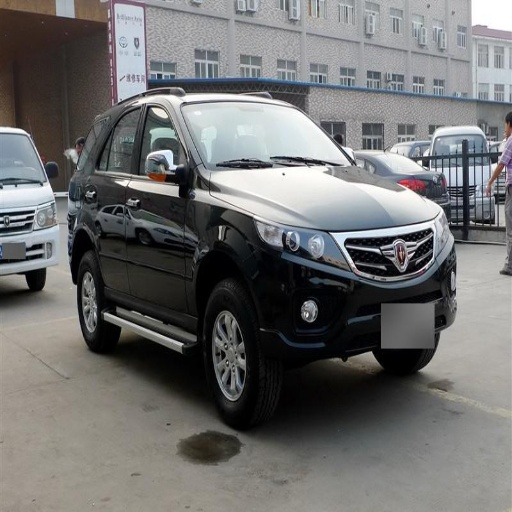front_bumper: (252, 215, 454, 359)
front_right_door: (128, 103, 192, 326)
front_right_light: (257, 221, 339, 263)
